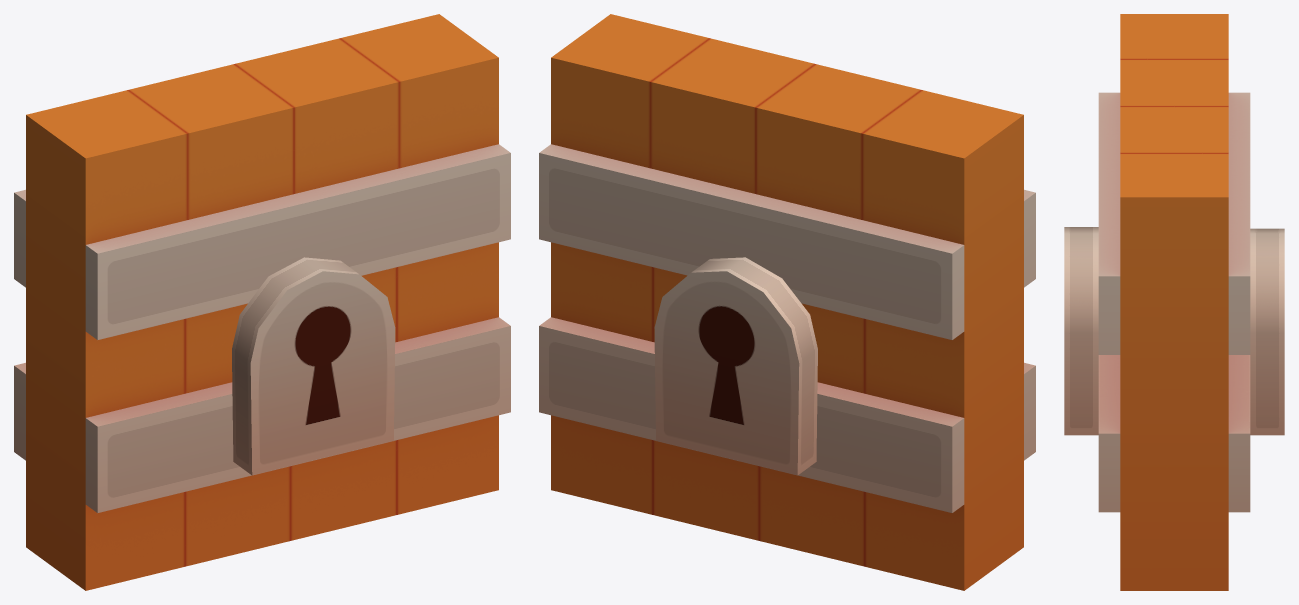
The model's file is Door.FBX.
The picture shows the model from 3 angles, left to right: view 1: azimuth 30°, elevation 25°; view 2: azimuth 150°, elevation 25°; view 3: azimuth 270°, elevation 25°; orthographic projection. The views are drawn at different scales.
Parts seen in each view (by area): view 1: Door, DoorLock; view 2: Door, DoorLock2; view 3: Door, DoorLock, DoorLock2.
Boxes of the visible parts, bbox=[...] form: Door: bbox=[14, 14, 510, 590]; DoorLock: bbox=[232, 257, 395, 475]; Door: bbox=[539, 14, 1035, 590]; DoorLock2: bbox=[654, 257, 817, 475]; Door: bbox=[1098, 14, 1250, 590]; DoorLock: bbox=[1064, 227, 1098, 435]; DoorLock2: bbox=[1250, 228, 1284, 435].
Bounding box in the file's own units: 100 × 100 × 50.78.
